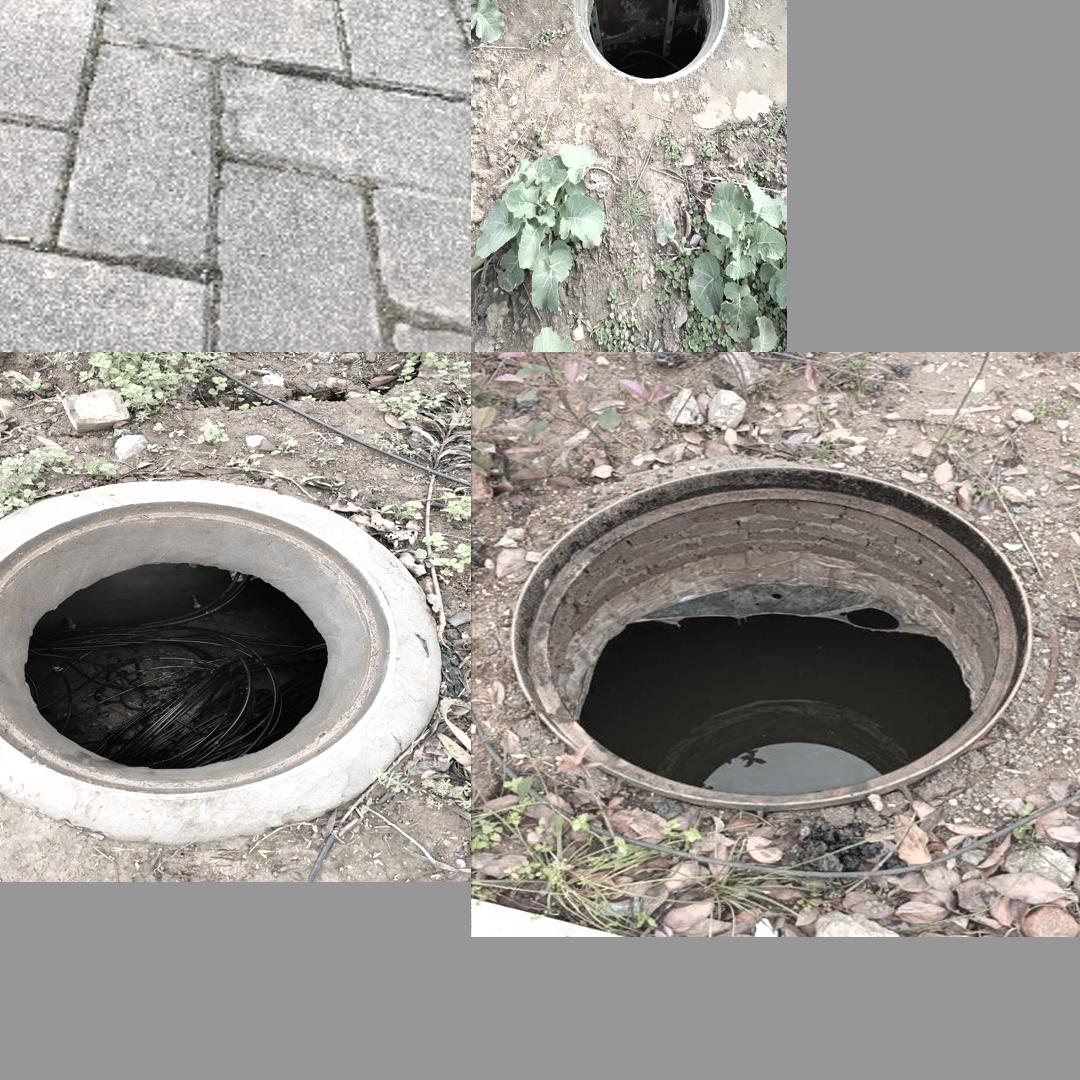lose: (507, 457, 1040, 814), (0, 485, 420, 794), (571, 0, 727, 82)
